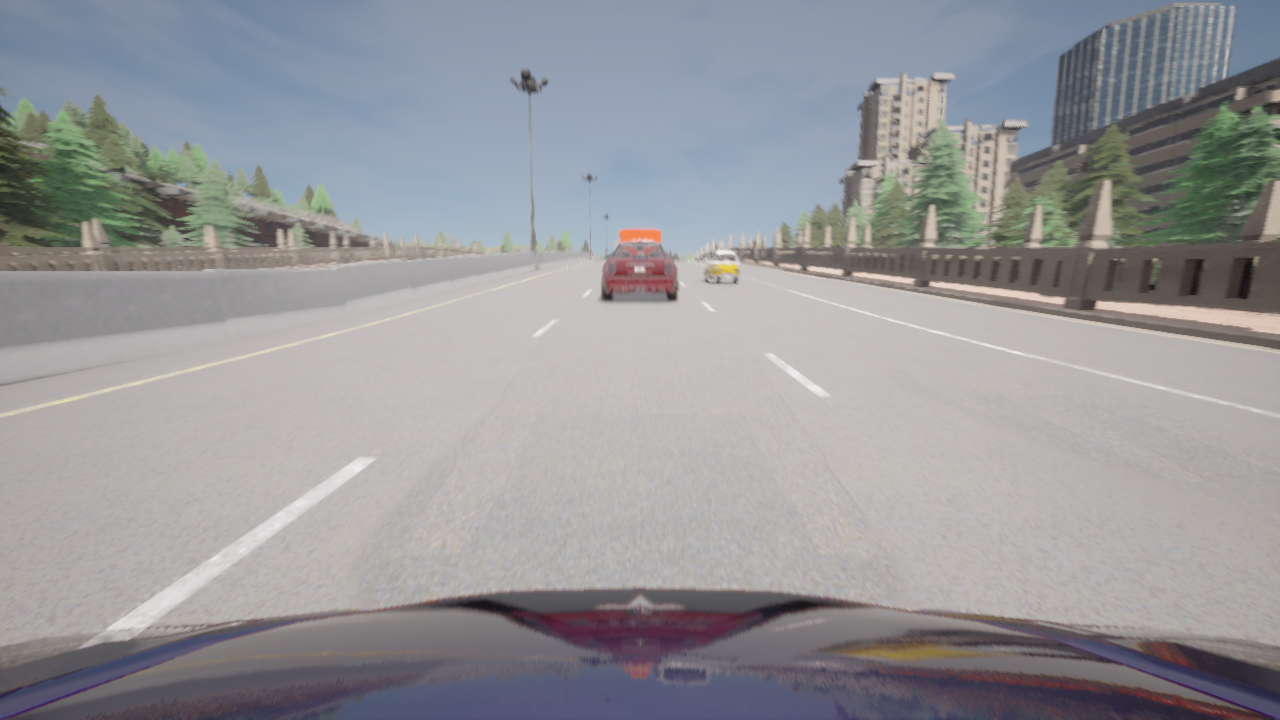cyclist: (0, 588, 1279, 719), (602, 240, 677, 300), (704, 250, 739, 284), (614, 229, 660, 246)
